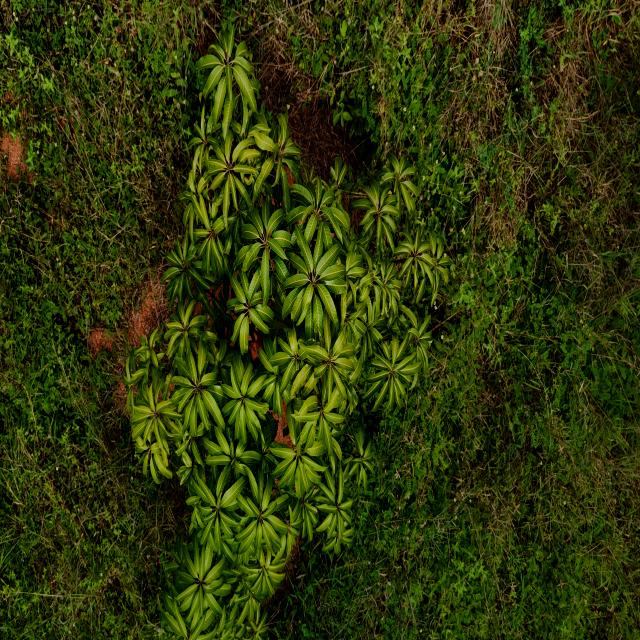mangoTree: (120, 25, 453, 640)
